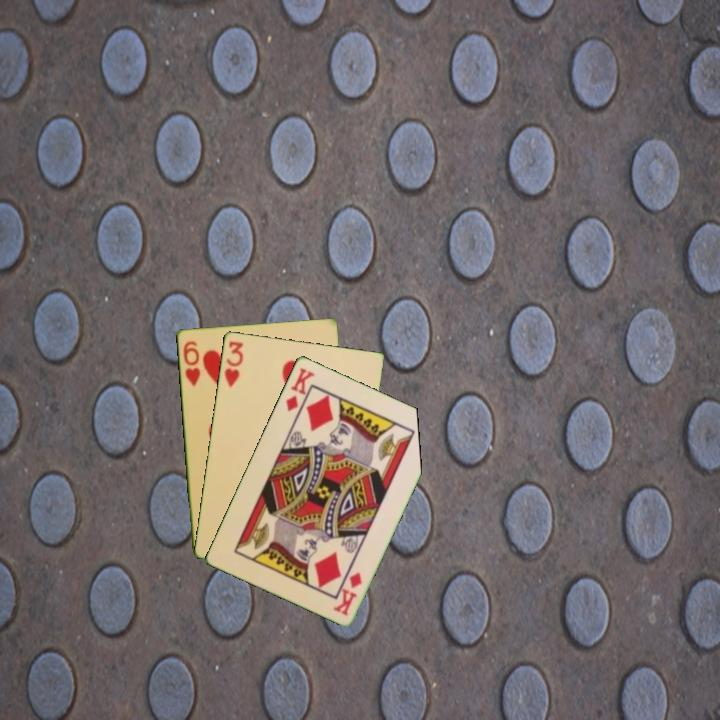3h: (221, 337, 246, 390)
6h: (179, 337, 203, 389)
Kd: (282, 364, 318, 414), (330, 568, 365, 618)
